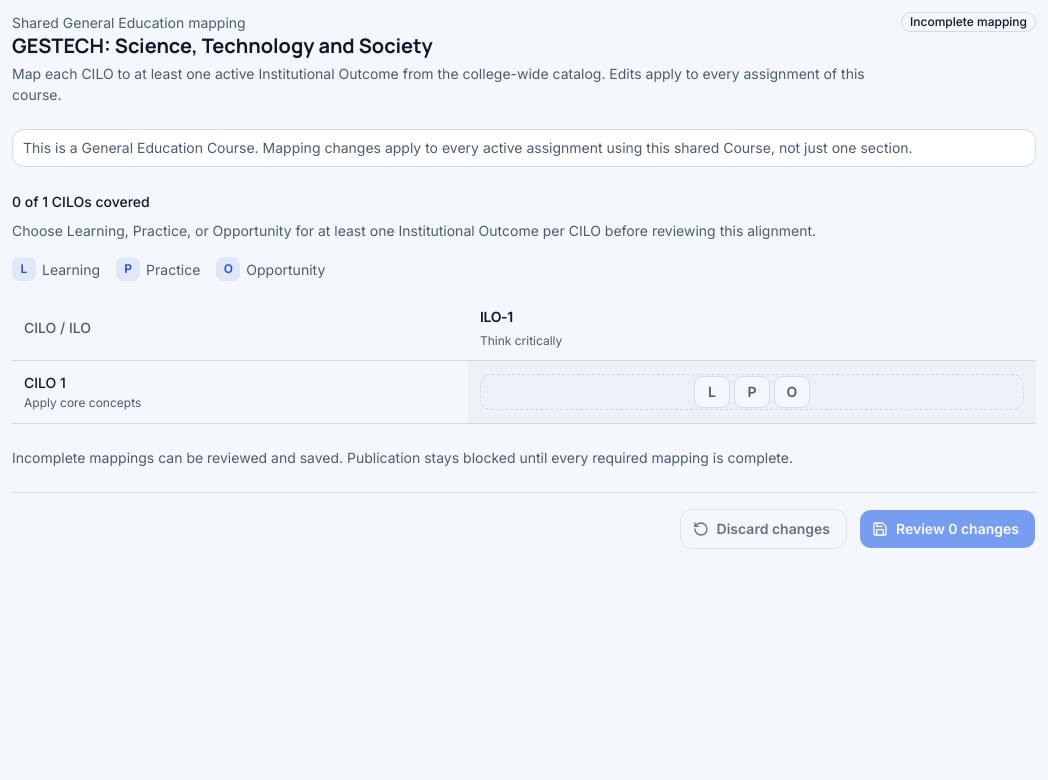
it: CourseAlignmentEditor › shows Institutional Outcome columns and a shared-impact warning for General Education
This screenshot has width=1048, height=780.
expect the text "Map each CILO to at least one active Institutional Outcome from the college-wide catalog. Edits apply to every assignmen" is shown: met, box left=12, top=65, right=865, bottom=103
expect the text "apply to every active assignment using this shared Course" is shown: met, box left=23, top=139, right=913, bottom=156
Click the button named "CILO 1, ILO 1, manifestation: Learning".
click(712, 392)  # box left=694, top=376, right=730, bottom=408
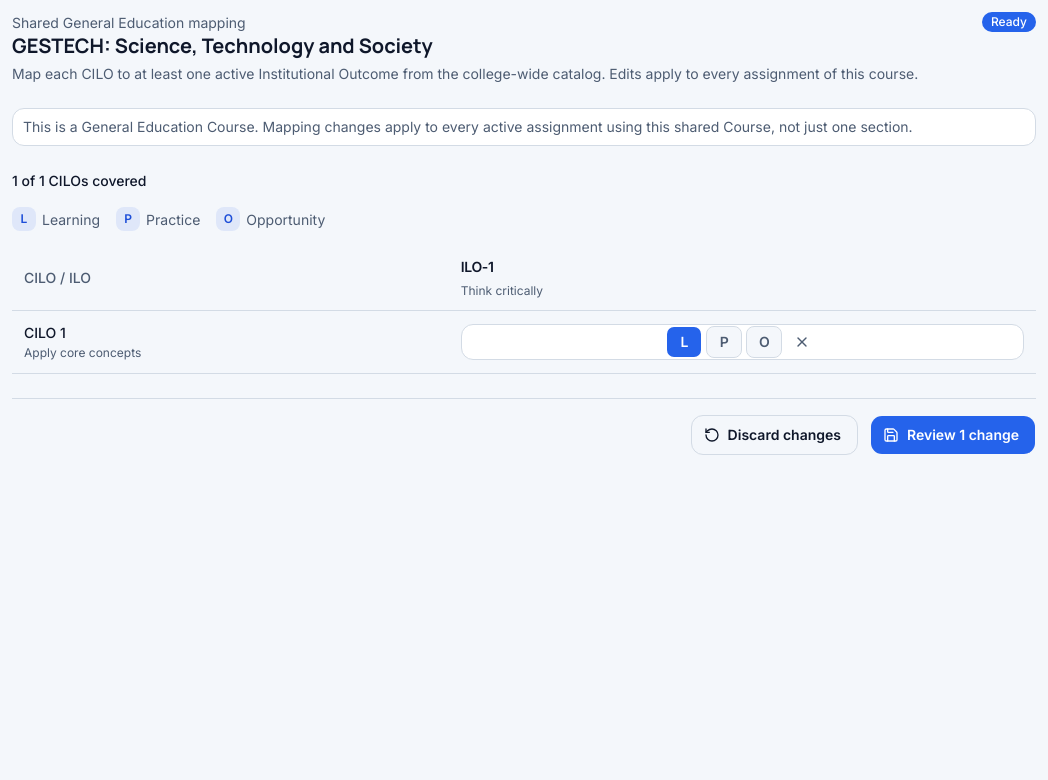
expect the text "1 of 1 CILOs covered" is shown: met, box left=12, top=170, right=146, bottom=191
expect the button "Review 1 change" is enabled: met, box left=870, top=414, right=1036, bottom=454
